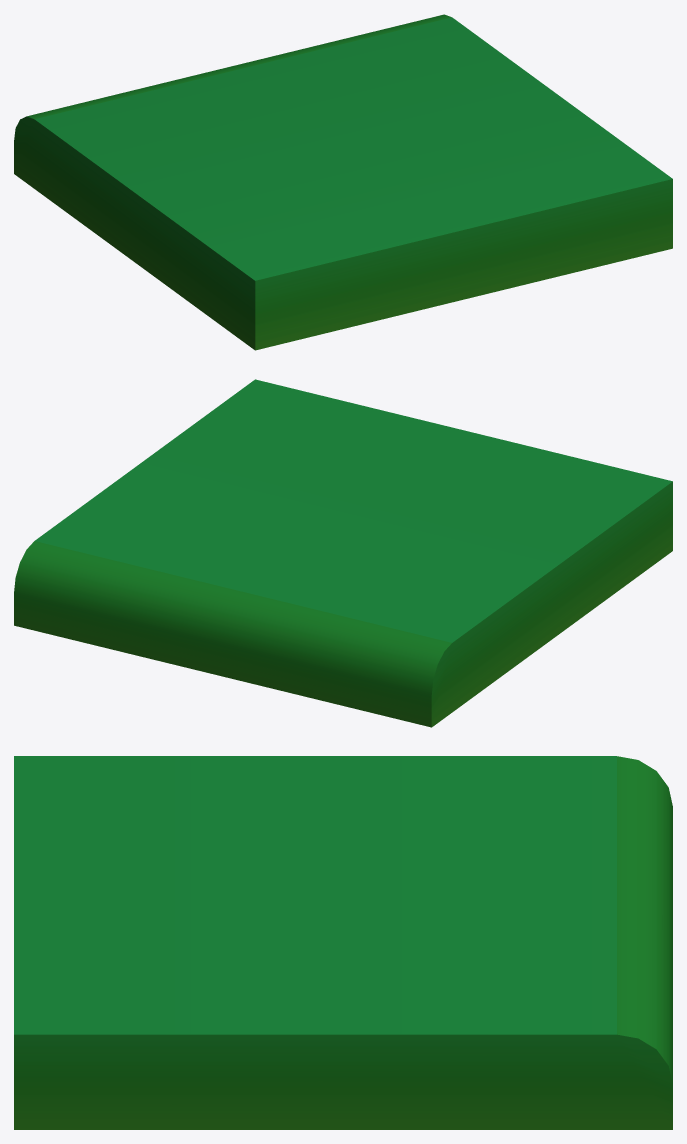
The model's file is GF_Edge_1_1.glb.
The picture shows the model from 3 angles, top to bottom: view 1: azimuth 30°, elevation 25°; view 2: azimuth 150°, elevation 25°; view 3: azimuth 270°, elevation 25°; orthographic projection. The views are drawn at different scales.
Parts seen in each view (by area): view 1: GF_Edge_1_1; view 2: GF_Edge_1_1; view 3: GF_Edge_1_1.
Part boxes in pixels (bbox=[...]): GF_Edge_1_1: bbox=[14, 14, 672, 350]; GF_Edge_1_1: bbox=[14, 379, 672, 727]; GF_Edge_1_1: bbox=[14, 756, 672, 1129].
Size of the model in its own units: 2 by 0.3187 by 2.
1 material, 1 textured.
